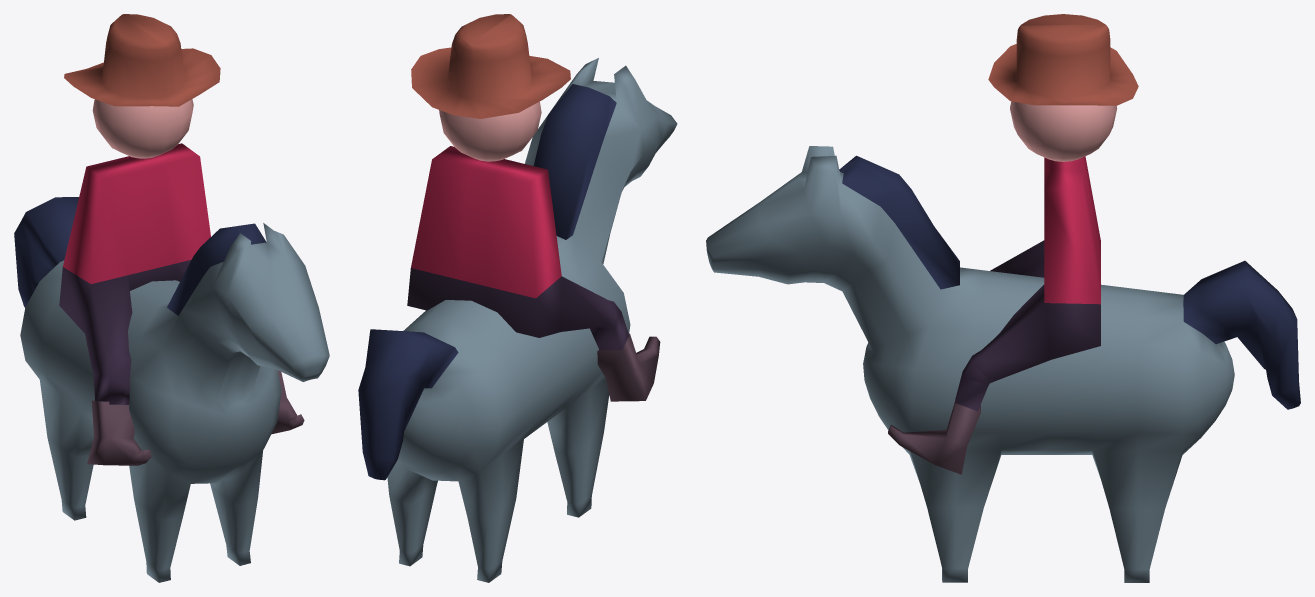
File: player.fbx
The picture shows the model from 3 angles, left to right: view 1: azimuth 30°, elevation 25°; view 2: azimuth 150°, elevation 25°; view 3: azimuth 270°, elevation 25°; orthographic projection. The views are drawn at different scales.
Visible parts, largest first — view 1: Horse, Bandit; view 2: Horse, Bandit; view 3: Horse, Bandit.
Part boxes in pixels (x1,y1,x2,y2): Horse: (14, 197, 329, 582); Bandit: (59, 14, 304, 465); Horse: (358, 58, 677, 582); Bandit: (407, 14, 660, 401); Horse: (706, 146, 1300, 582); Bandit: (888, 14, 1138, 474).
Size of the model in its own units: 307 by 727 by 735.
